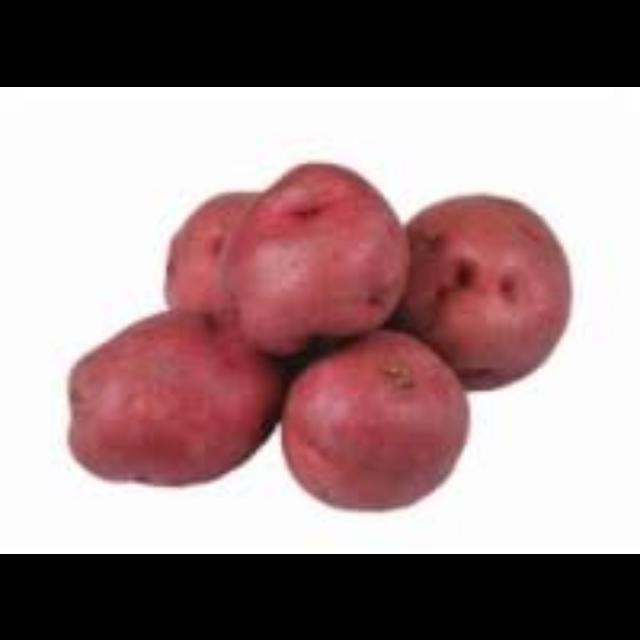Defected potato: (372, 190, 574, 396), (62, 307, 284, 493), (217, 158, 411, 356), (276, 325, 470, 515)
